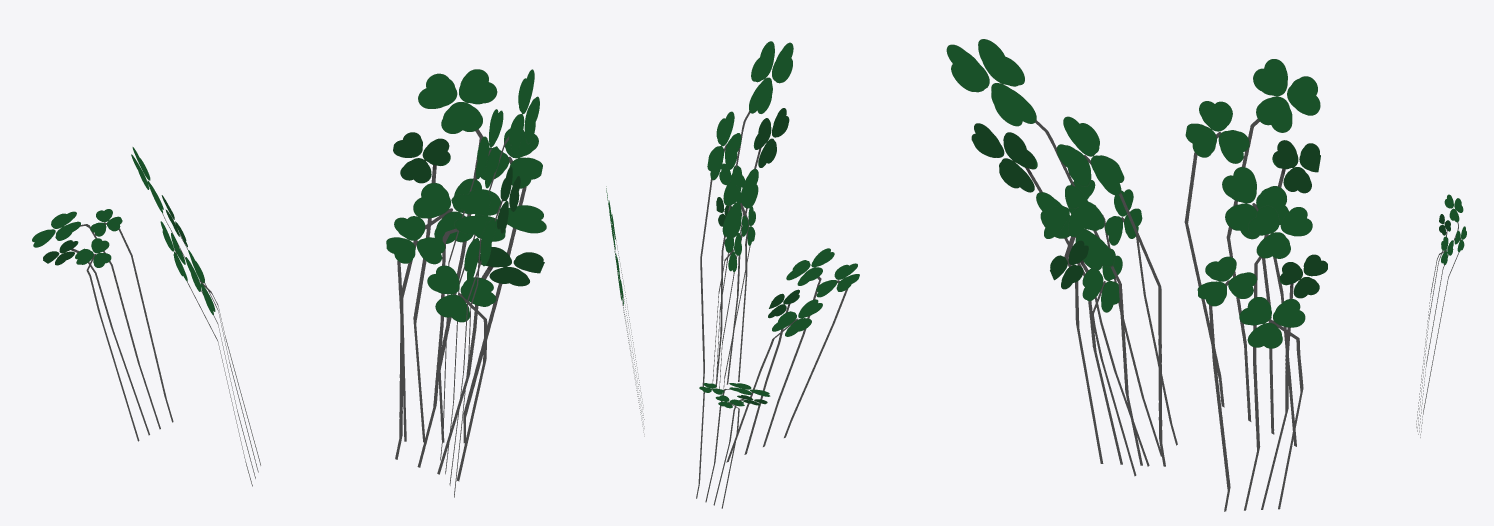
File: PT_Clover_02.fbx
3 renders of one model, left to right at view 1: azimuth 30°, elevation 25°; view 2: azimuth 150°, elevation 25°; view 3: azimuth 270°, elevation 25°, orthographic. The views are drawn at different scales.
Parts seen in each view (by area): view 1: PT_Clover_02_LOD0; view 2: PT_Clover_02_LOD0; view 3: PT_Clover_02_LOD0.
Boxes of the visible parts, x1=… form: PT_Clover_02_LOD0: x1=32, y1=69, x2=546, y2=497; PT_Clover_02_LOD0: x1=606, y1=41, x2=859, y2=508; PT_Clover_02_LOD0: x1=946, y1=39, x2=1466, y2=511.
Size of what is drawn, in the model's own units: 68.11 by 79.78 by 85.59.
